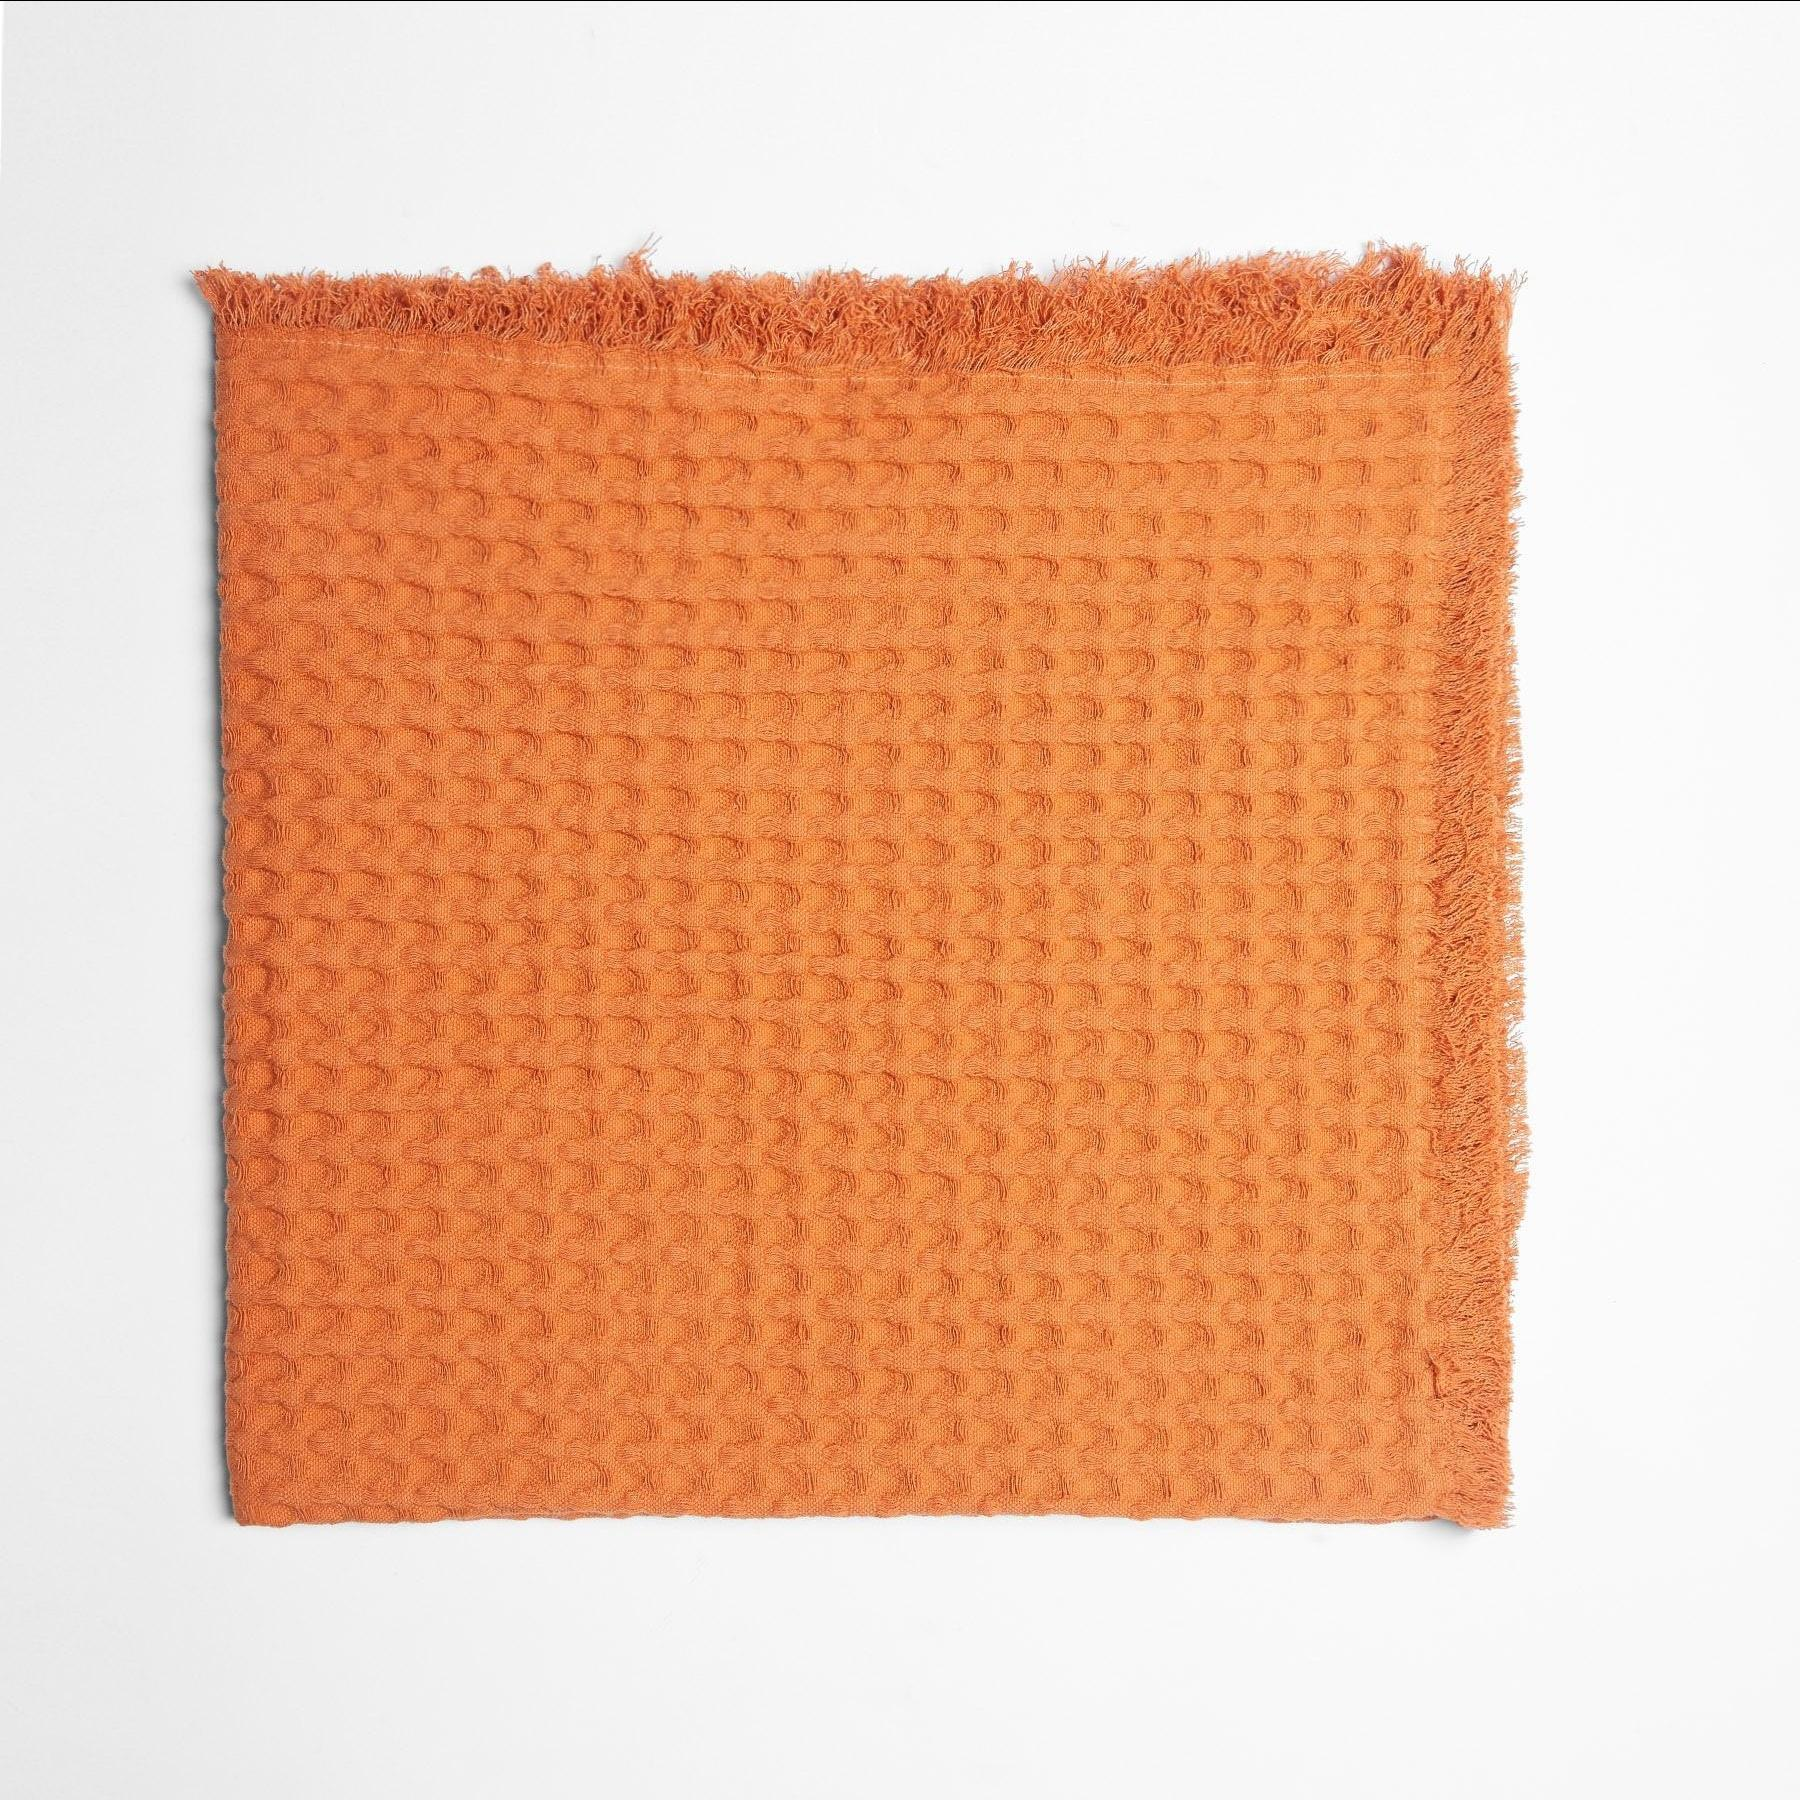towel: (204, 285, 1515, 1510)
